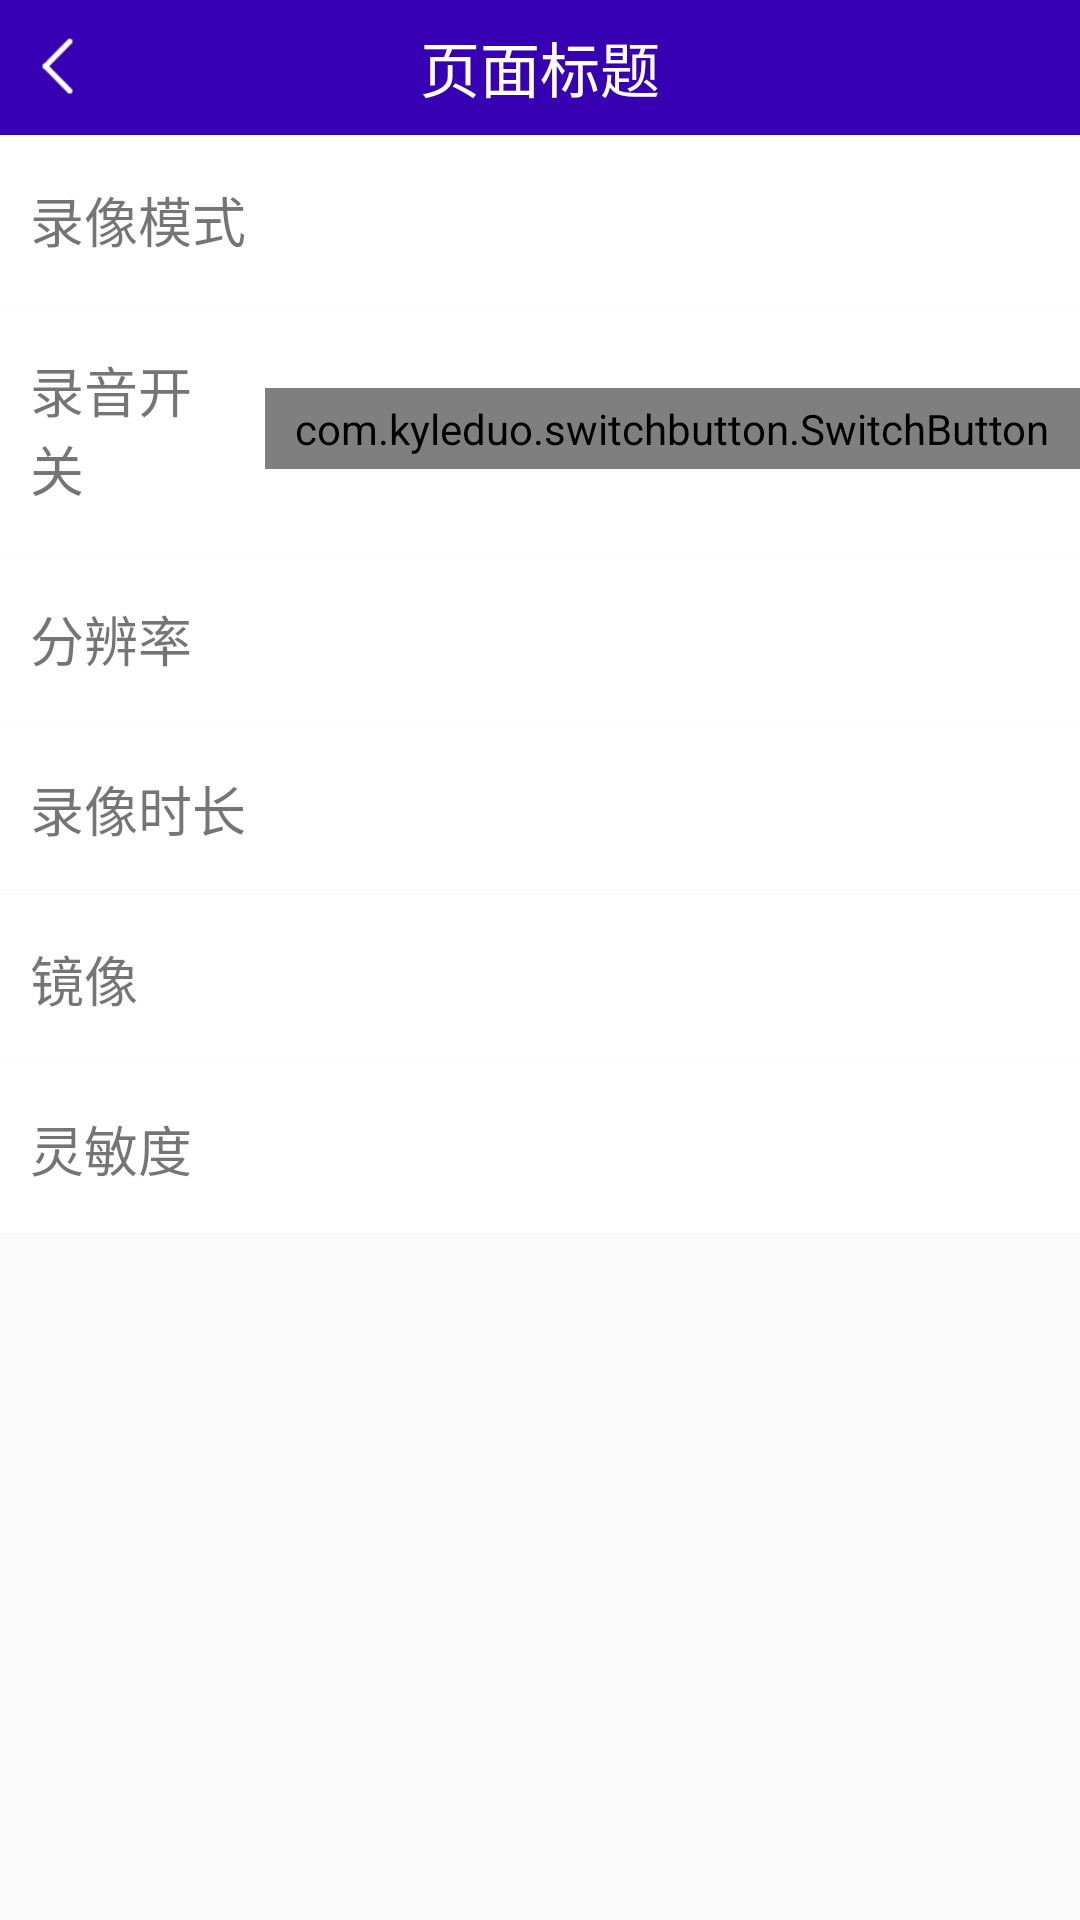

Locate icon controls on the screen. Image size 1080×1920, boxes as (x1, y1, x2, y2).
arrow: (42, 38, 73, 94)
